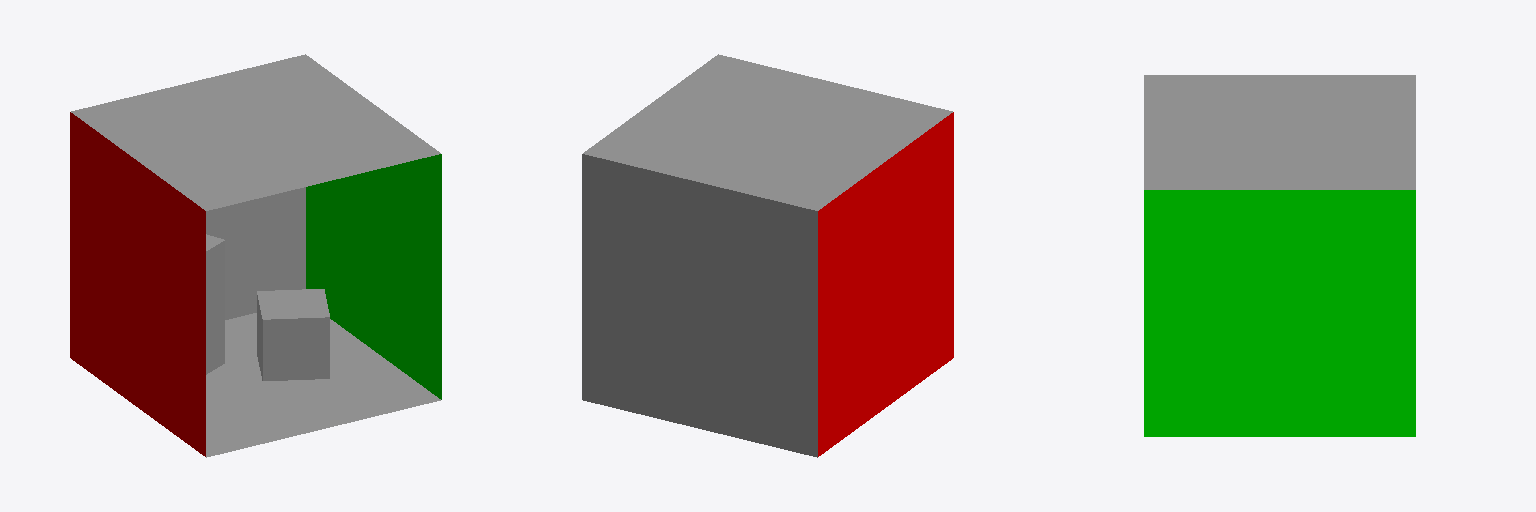
The picture shows the model from 3 angles: view 1: azimuth 30°, elevation 25°; view 2: azimuth 150°, elevation 25°; view 3: azimuth 270°, elevation 25°; orthographic projection.
Parts seen in each view (by area): view 1: red_wall_Cube.015, floor.001_Cube.000, green_wall_Cube.008, floor_Cube.016, back_wall.001_Cube.014, small_box_Cube.001, tall_box_Cube.002; view 2: back_wall.001_Cube.014, red_wall_Cube.015, floor.001_Cube.000; view 3: green_wall_Cube.008, floor.001_Cube.000.
Part boxes in pixels (bbox=[...]): red_wall_Cube.015: bbox=[70, 112, 205, 456]; floor.001_Cube.000: bbox=[71, 54, 440, 210]; green_wall_Cube.008: bbox=[306, 154, 441, 399]; floor_Cube.016: bbox=[206, 313, 440, 457]; back_wall.001_Cube.014: bbox=[206, 187, 305, 319]; small_box_Cube.001: bbox=[257, 289, 329, 380]; tall_box_Cube.002: bbox=[206, 234, 224, 374]; back_wall.001_Cube.014: bbox=[582, 154, 817, 457]; red_wall_Cube.015: bbox=[818, 112, 953, 456]; floor.001_Cube.000: bbox=[583, 54, 952, 210]; green_wall_Cube.008: bbox=[1144, 190, 1415, 436]; floor.001_Cube.000: bbox=[1144, 75, 1415, 189].
Bounding box in the file's own units: 4 × 4 × 4.